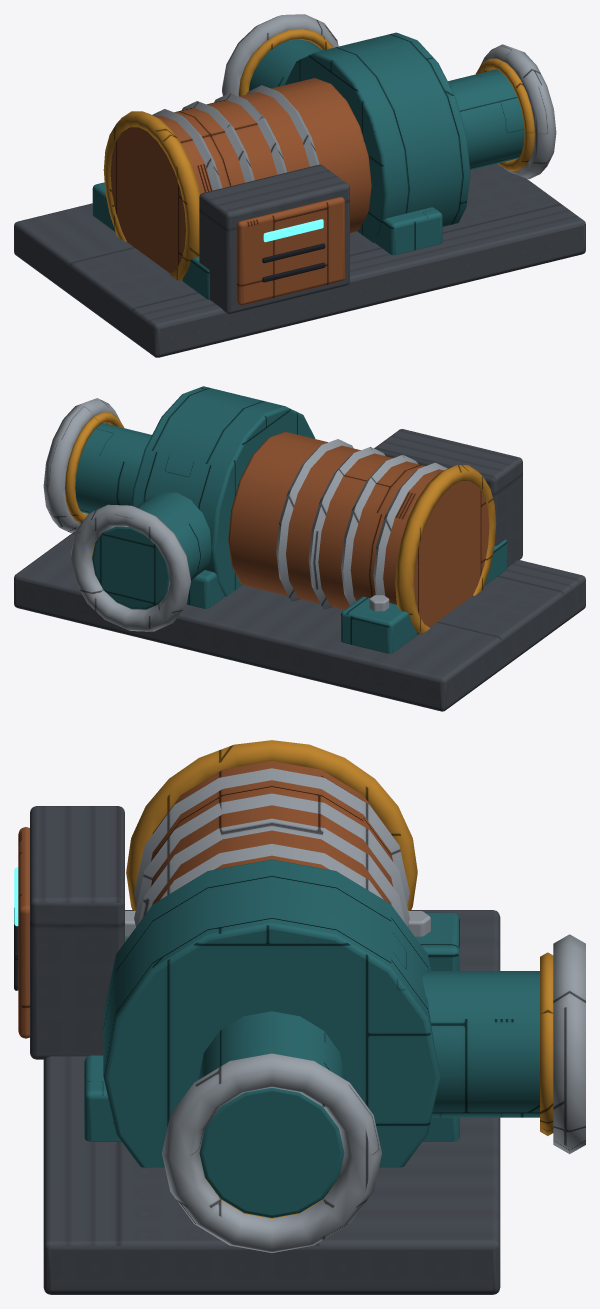
The model's file is pump_skid_lod0.glb.
3 renders of one model, top to bottom at view 1: azimuth 30°, elevation 25°; view 2: azimuth 150°, elevation 25°; view 3: azimuth 270°, elevation 25°, orthographic. The views are drawn at different scales.
Visible parts, largest first — view 1: LOD0_Mechanical, LOD0_Armor, LOD0_Hull, LOD0_BrushedMetal, LOD0_Livery, LOD0_MechanicalDark, LOD0_Lights_Cyan; view 2: LOD0_Mechanical, LOD0_Armor, LOD0_Hull, LOD0_BrushedMetal, LOD0_Livery; view 3: LOD0_Armor, LOD0_Mechanical, LOD0_BrushedMetal, LOD0_Hull, LOD0_Livery.
Part boxes in pixels (x1,y1,x2,y2): LOD0_Mechanical: [14, 163, 585, 357]; LOD0_Armor: [92, 32, 524, 299]; LOD0_Hull: [110, 78, 371, 305]; LOD0_BrushedMetal: [152, 14, 556, 190]; LOD0_Livery: [103, 28, 534, 280]; LOD0_MechanicalDark: [262, 243, 325, 282]; LOD0_Lights_Cyan: [263, 219, 323, 242]; LOD0_Mechanical: [14, 429, 585, 711]; LOD0_Armor: [75, 386, 507, 653]; LOD0_Hull: [228, 432, 489, 627]; LOD0_BrushedMetal: [43, 398, 447, 631]; LOD0_Livery: [65, 412, 496, 634]; LOD0_Armor: [84, 859, 539, 1217]; LOD0_Mechanical: [30, 806, 500, 1294]; LOD0_BrushedMetal: [125, 768, 585, 1252]; LOD0_Hull: [18, 761, 393, 1038]; LOD0_Livery: [126, 740, 553, 1218].
Bounding box in the file's own units: 4.08 × 1.7 × 2.88.
Materials: 7 (6 with a texture image).
